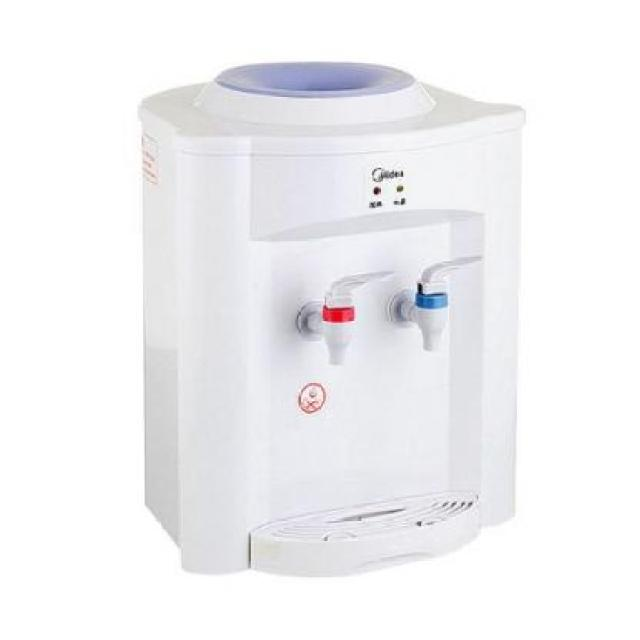cooler: (132, 56, 527, 580)
